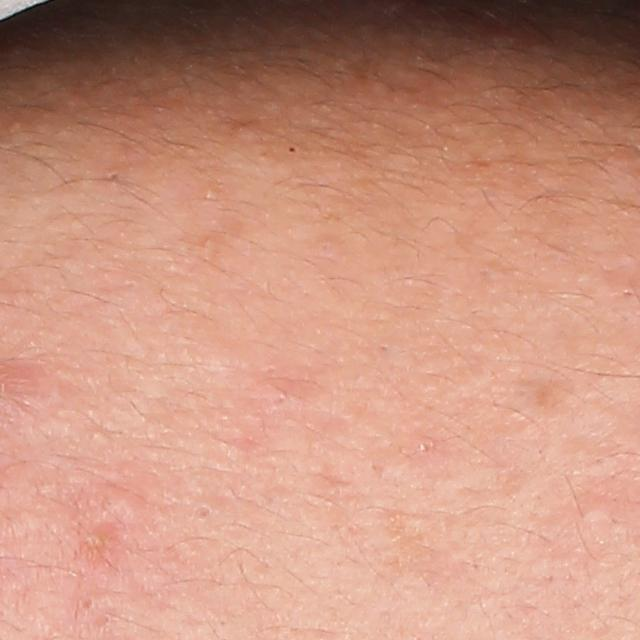comedo: (95, 483, 143, 526), (580, 503, 615, 528), (418, 441, 433, 455)
